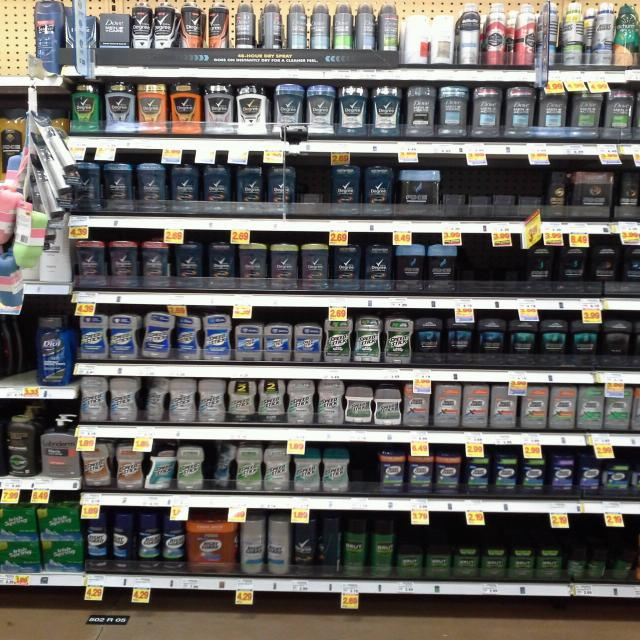void: (460, 244, 524, 312), (449, 169, 488, 244), (0, 316, 33, 404), (492, 170, 533, 239)
